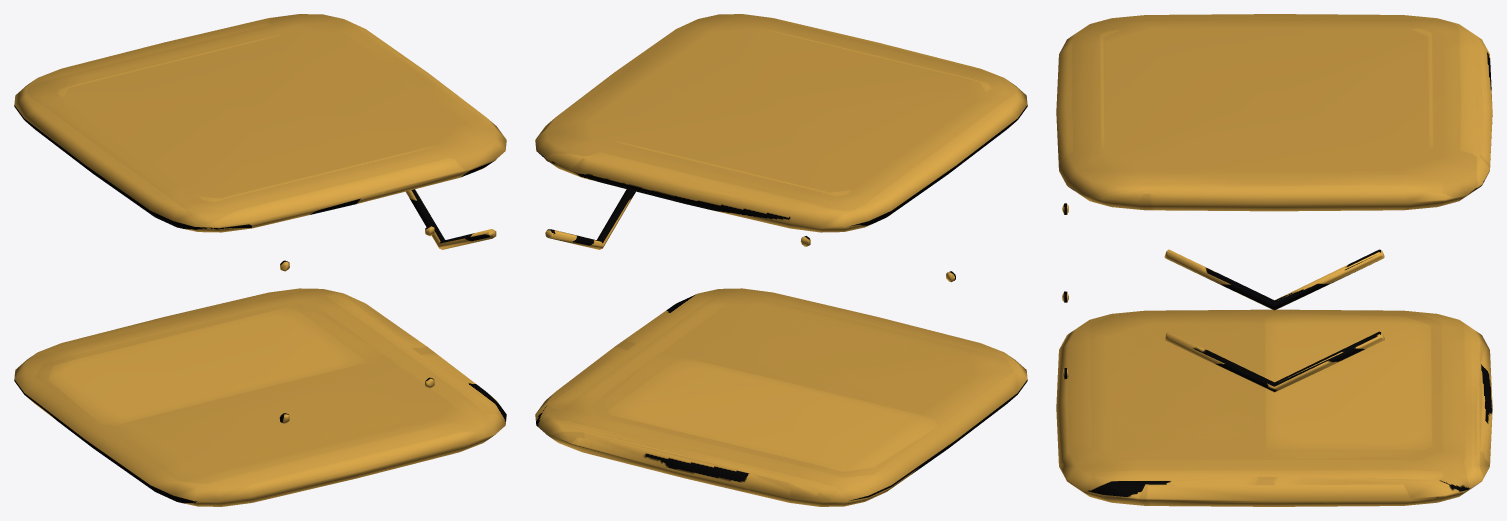
Rendered from Centinela_BrazaleteIzq_Oro.fbx.
3 renders of one model, left to right at view 1: azimuth 30°, elevation 25°; view 2: azimuth 150°, elevation 25°; view 3: azimuth 270°, elevation 25°, orthographic. The views are drawn at different scales.
Visible parts, largest first — view 1: Centinela_BrazaleteIzq_Oro; view 2: Centinela_BrazaleteIzq_Oro; view 3: Centinela_BrazaleteIzq_Oro.
Boxes of the visible parts, box(x1,y1,x2,y2) form: Centinela_BrazaleteIzq_Oro: box(14, 14, 506, 506); Centinela_BrazaleteIzq_Oro: box(535, 14, 1027, 506); Centinela_BrazaleteIzq_Oro: box(1056, 14, 1492, 506).
Size of the model in its own units: 1.25 by 0.9909 by 1.21.
